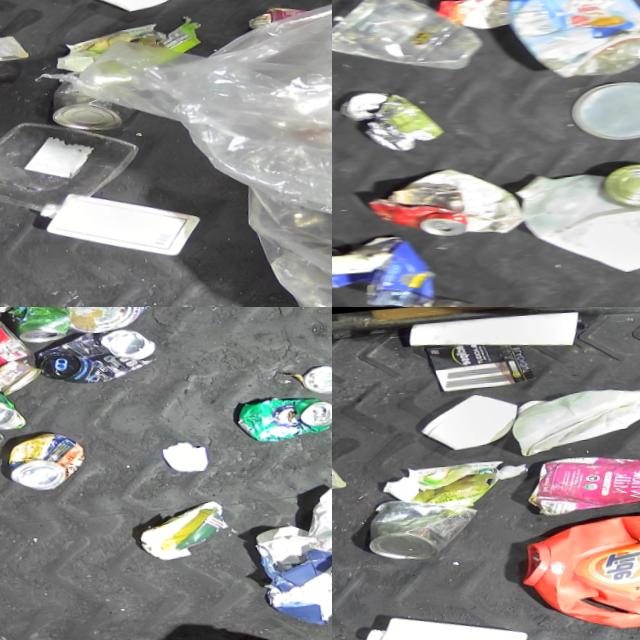can: (349, 493, 479, 567), (26, 325, 154, 388), (41, 68, 136, 134), (354, 189, 459, 243), (223, 394, 332, 445), (0, 429, 80, 492), (0, 307, 68, 346), (56, 307, 147, 335), (589, 160, 640, 209), (0, 317, 27, 389), (332, 89, 387, 121), (0, 357, 35, 397), (291, 364, 332, 396), (0, 378, 17, 433)
milk_jug: (499, 160, 640, 283), (24, 180, 198, 268), (493, 379, 640, 462)
non_white_jug: (495, 503, 640, 640)
